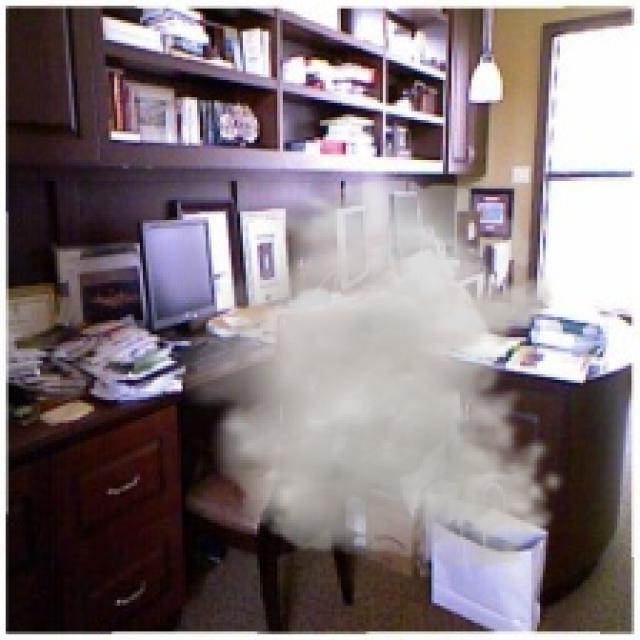Smoke: (160, 177, 566, 572)
